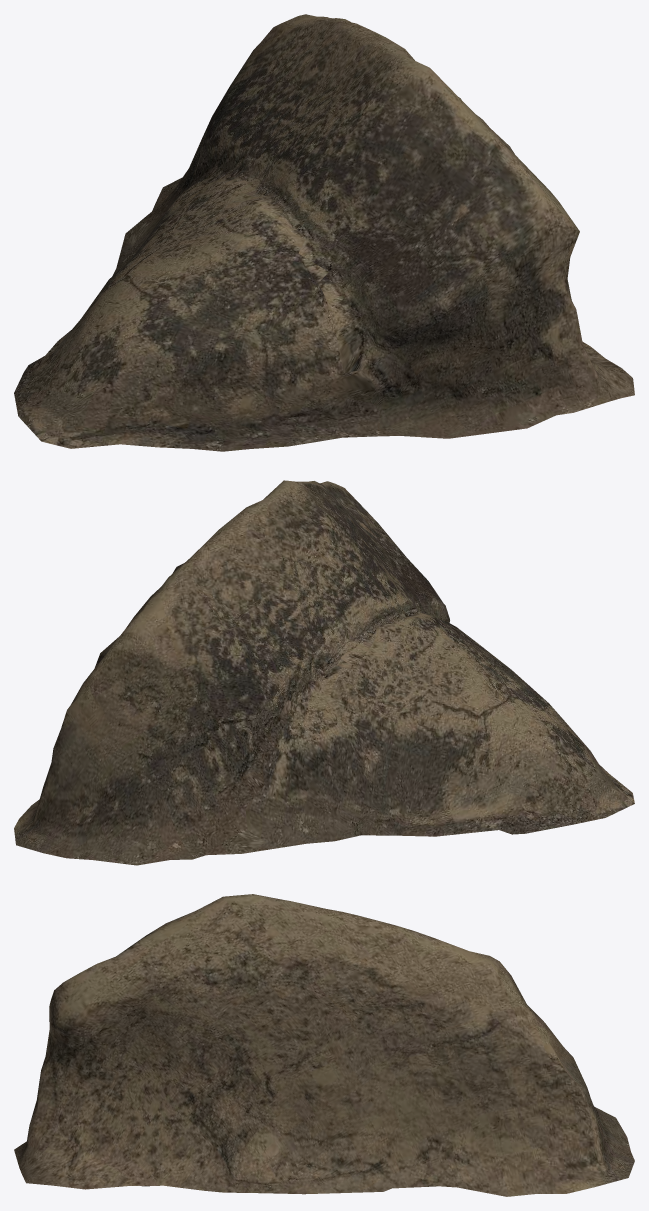
Rendered from boulder3.glb.
3 views of the same model, one above another, from view 1: azimuth 30°, elevation 25°; view 2: azimuth 150°, elevation 25°; view 3: azimuth 270°, elevation 25° (orthographic). The views are drawn at different scales.
Visible parts, largest first — view 1: Rock Dry River PBR Scan Part 06; view 2: Rock Dry River PBR Scan Part 06; view 3: Rock Dry River PBR Scan Part 06.
Boxes of the visible parts, x1,y1,x2,y2 form: Rock Dry River PBR Scan Part 06: [14, 14, 634, 451]; Rock Dry River PBR Scan Part 06: [14, 480, 634, 865]; Rock Dry River PBR Scan Part 06: [14, 894, 634, 1196].
Bounding box in the file's own units: 2.89 × 1.5 × 3.36.
Materials: 1 (1 with a texture image).
